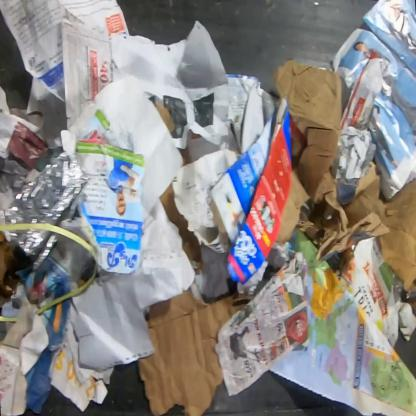cardboard: (209, 59, 342, 285), (136, 285, 256, 415), (335, 230, 415, 349), (377, 176, 416, 294)
rigid_plastic: (0, 152, 90, 226), (0, 230, 60, 270)
